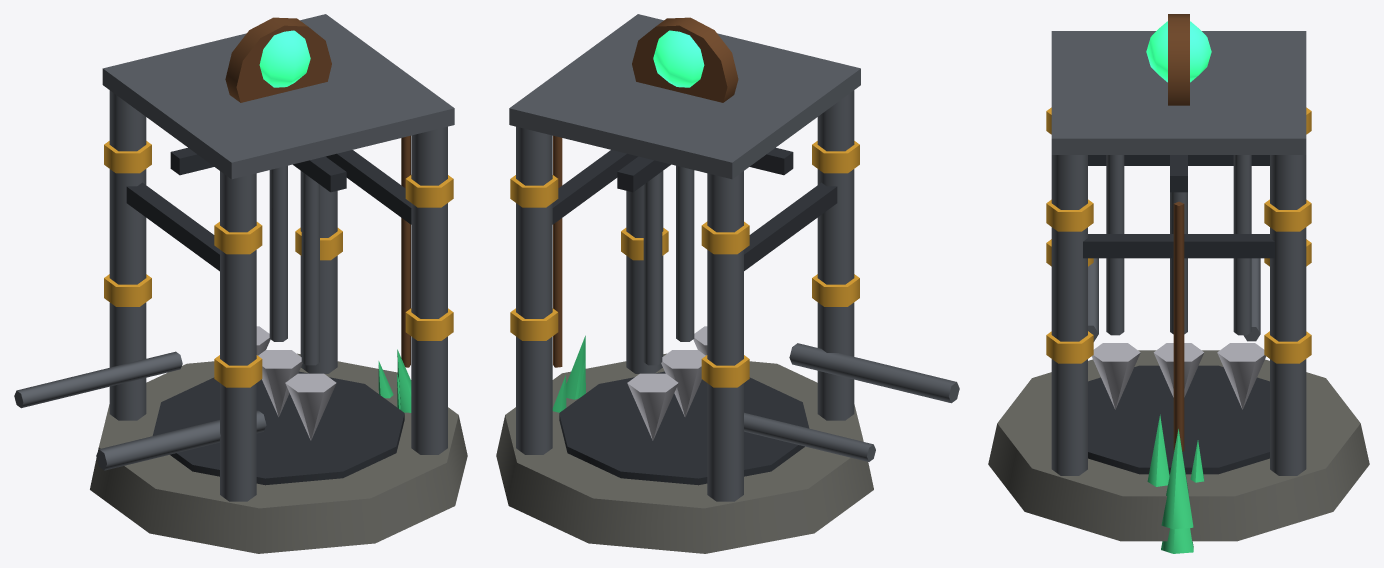
File: level3.glb
3 views of the same model, side by side, from view 1: azimuth 30°, elevation 25°; view 2: azimuth 150°, elevation 25°; view 3: azimuth 270°, elevation 25° (orthographic).
Bounding box in the file's own units: 2.76 × 3.12 × 2.35.
